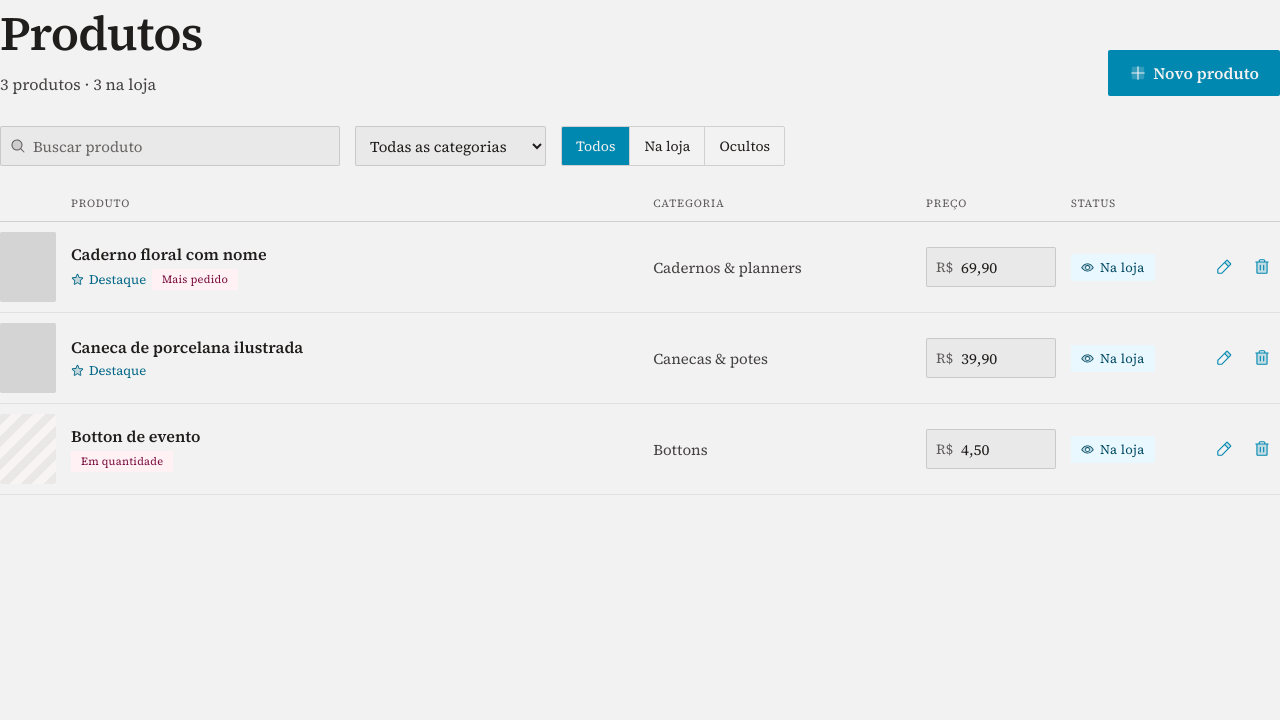
Scenario: ProductsPanel › asks for confirmation before deleting
Click the button named "Excluir" in the row of "Cadernos & planners". click: x=1262, y=267
box: [1244,249,1279,285]
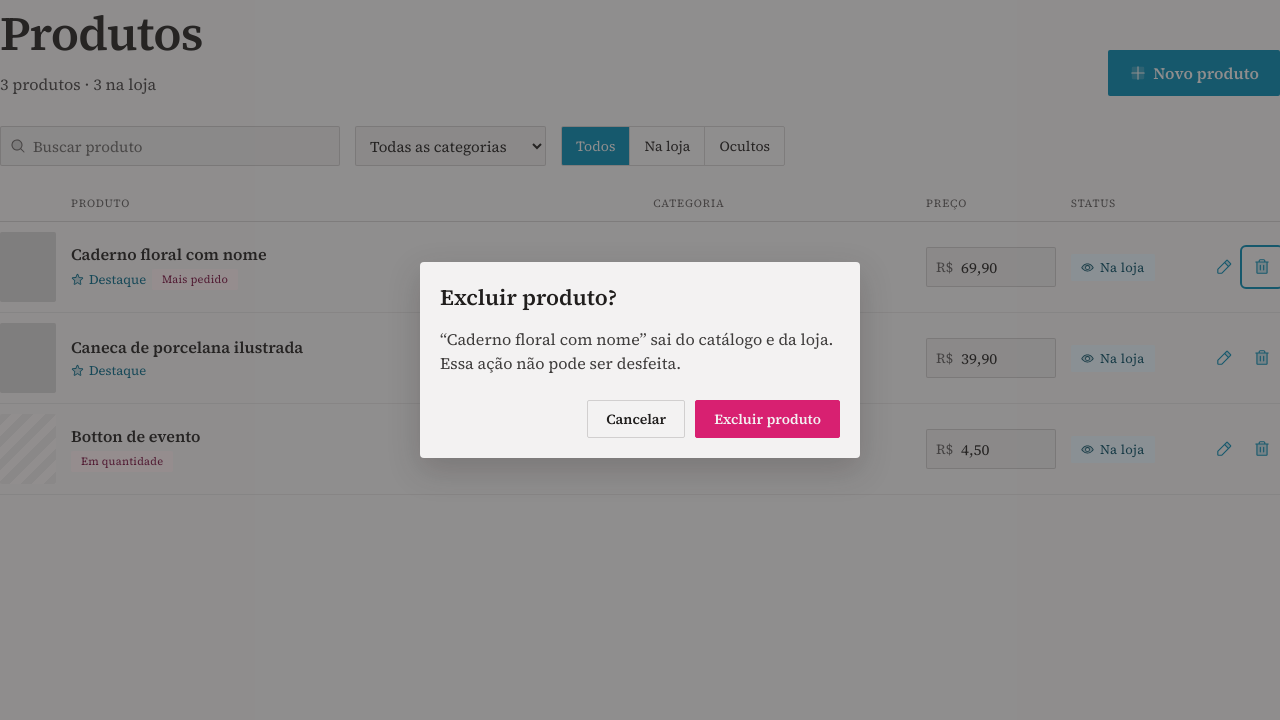
Expected: the dialog shows "“Caderno floral com nome” sai do catálogo e da loja.", [440,328,833,374]
Click the button "Excluir produto". click: x=768, y=419
box: [695,400,840,438]
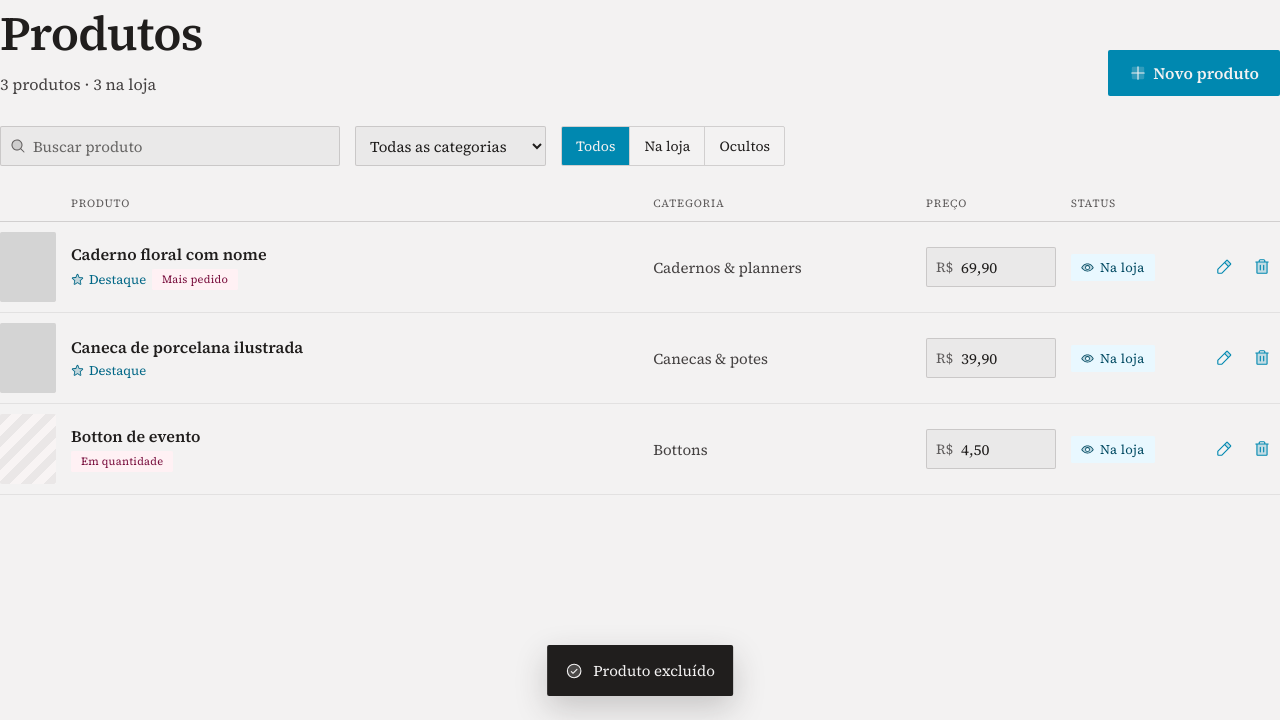
Expected: the message reads "Produto excluído", [593,660,715,681]
